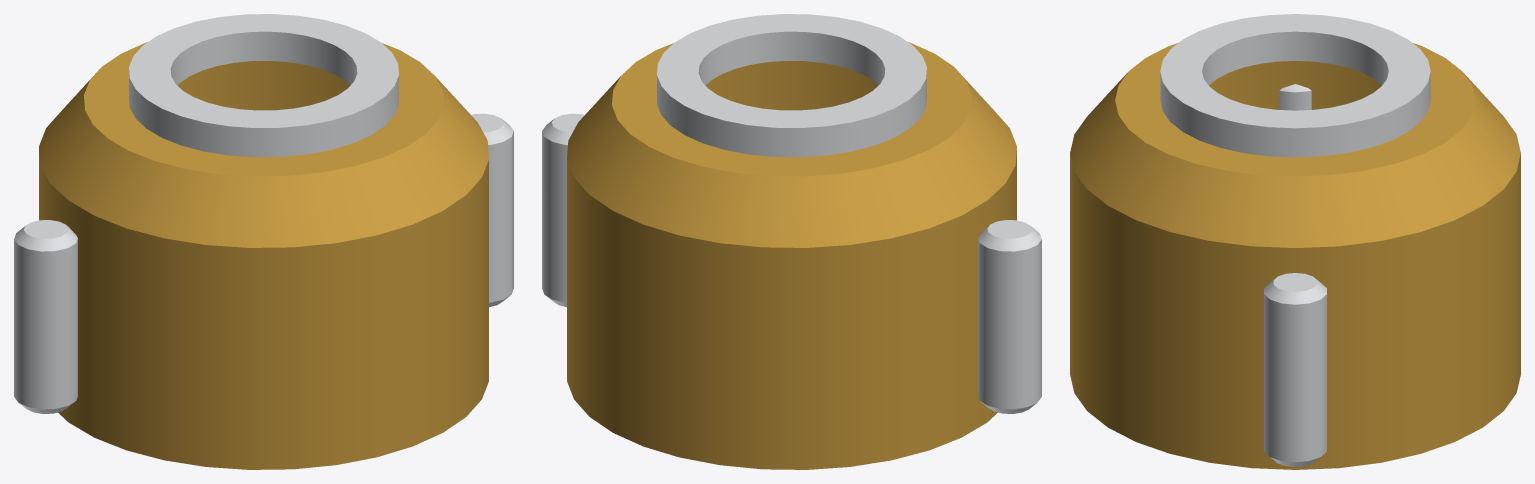
Rendered from sm1_actuator.obj.
The picture shows the model from 3 angles, left to right: view 1: azimuth 30°, elevation 25°; view 2: azimuth 150°, elevation 25°; view 3: azimuth 270°, elevation 25°; orthographic projection.
Parts seen in each view (by area): view 1: sm1_actuator; view 2: sm1_actuator; view 3: sm1_actuator.
Boxes of the visible parts, x1,y1,x2,y2 form: sm1_actuator: (14,14,513,469); sm1_actuator: (542,14,1041,469); sm1_actuator: (1070,14,1520,469).
Size of the model in its own units: 1.76 by 1.04 by 1.4.
